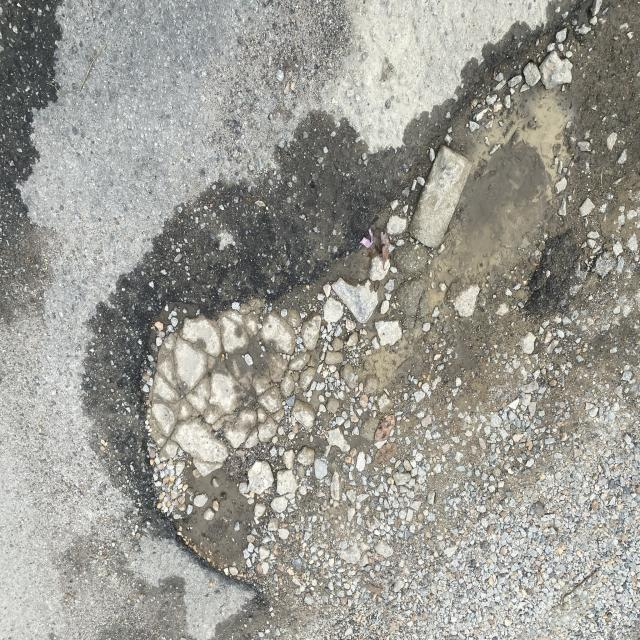pothole: (66, 31, 640, 560)
